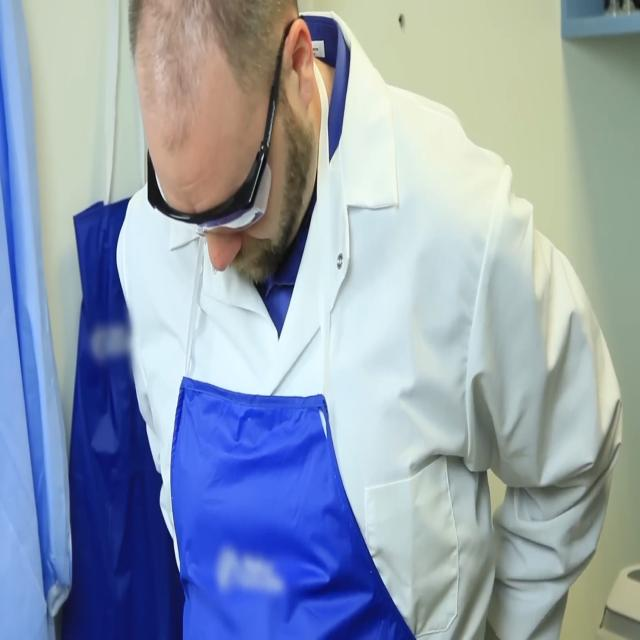googles: (134, 113, 280, 241)
labcoat: (110, 0, 629, 640), (0, 0, 79, 640)
